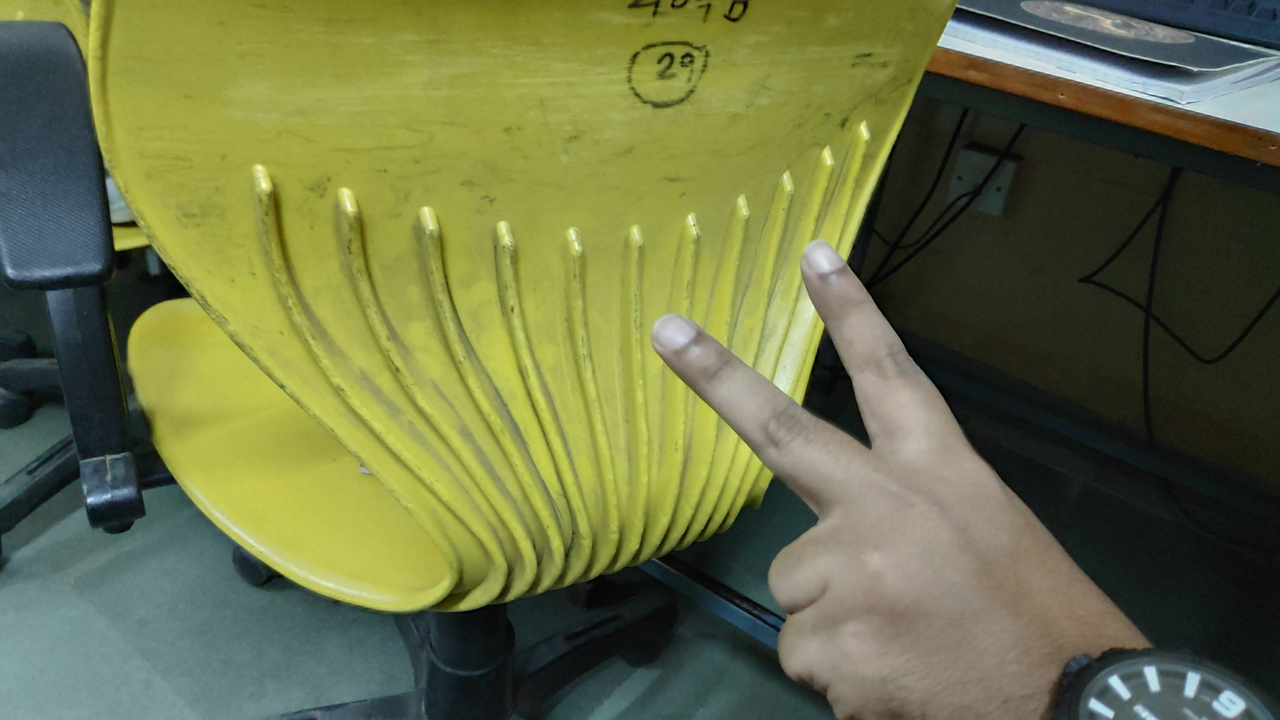fingertip: (792, 230, 856, 294), (642, 306, 708, 366)
